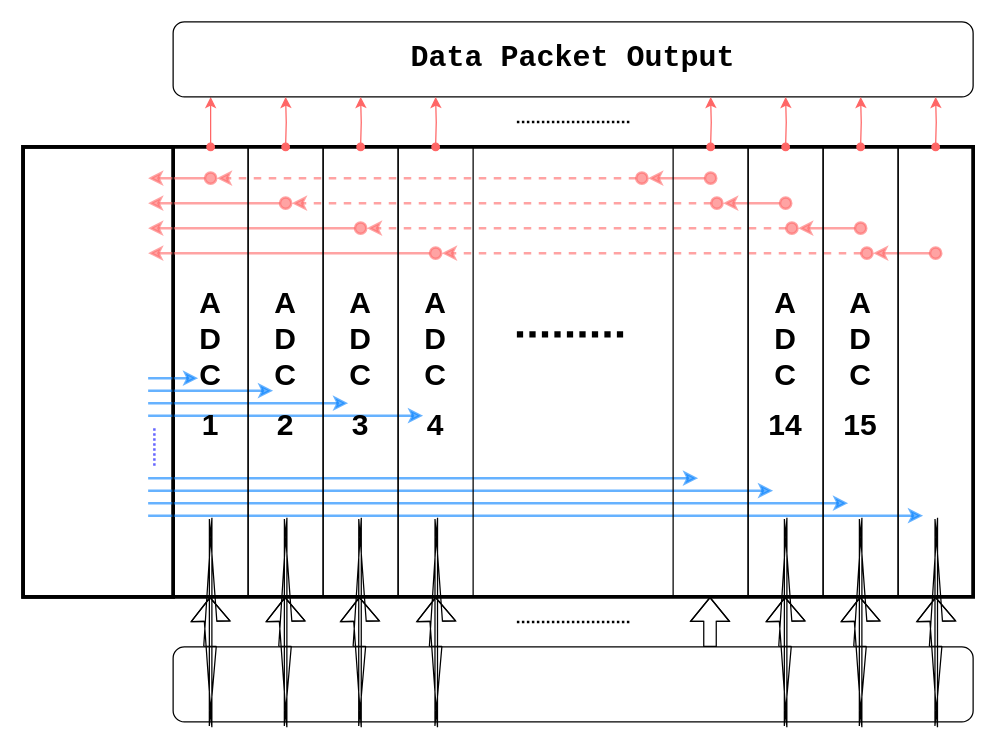
Some shapes in this 996 by 750 pixel diagram are drawn without their labels. The centre of each missing label's shape, as x and y in pixels:
A D C 13: the point at 710,371
A D C 16: the point at 935,371
Analog Signals from Detectors: the point at 572,684
L o c a l C D T: the point at 97,371
